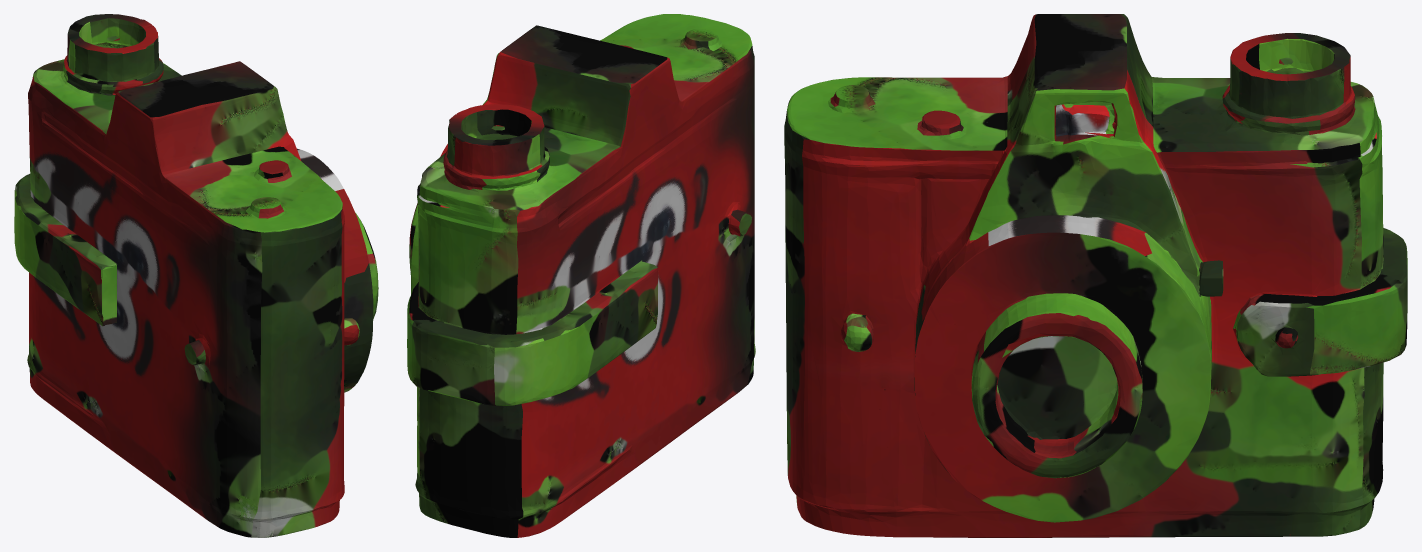
Rendered from sample.obj.
3 renders of one model, left to right at view 1: azimuth 30°, elevation 25°; view 2: azimuth 150°, elevation 25°; view 3: azimuth 270°, elevation 25°, orthographic. The views are drawn at different scales.
Bounding box in the file's own units: 0.0886 × 0.135 × 0.1679.
